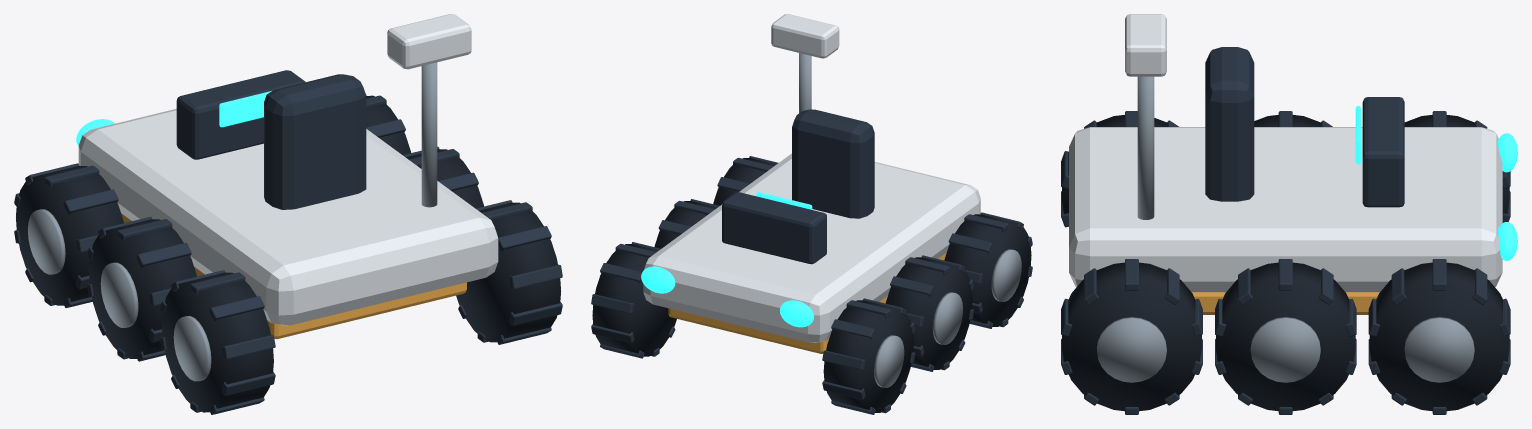
File: moon-rover.glb
3 renders of one model, left to right at view 1: azimuth 30°, elevation 25°; view 2: azimuth 150°, elevation 25°; view 3: azimuth 270°, elevation 25°, orthographic. The views are drawn at different scales.
Visible parts, largest first — view 1: Static_Pearl ceramic white, Static_Graphite panels, Wheel, Wheel.003, Wheel.002, Wheel.001, Static_Brushed titanium, Rover gold belly, Wheel hub.002, Wheel hub, Wheel hub.001, Static_Ion cyan emission (+2 smaller); view 2: Static_Pearl ceramic white, Static_Graphite panels, Wheel.002, Wheel.005, Wheel.001, Wheel, Static_Ion cyan emission, Rover gold belly, Wheel hub, Wheel hub.002, Wheel hub.001, Wheel.004 (+2 smaller); view 3: Static_Pearl ceramic white, Static_Graphite panels, Wheel.004, Wheel.005, Wheel.003, Wheel hub.005, Wheel hub.003, Wheel hub.004, Static_Brushed titanium, Static_Ion cyan emission, Rover gold belly, Wheel.002 (+2 smaller).
Boxes of the visible parts, x1=… form: Static_Pearl ceramic white: x1=78, y1=14, x2=498, y2=325; Static_Graphite panels: x1=14, y1=70, x2=562, y2=414; Wheel: x1=161, y1=272, x2=273, y2=412; Wheel.003: x1=456, y1=202, x2=560, y2=342; Wheel.002: x1=16, y1=166, x2=123, y2=305; Wheel.001: x1=88, y1=219, x2=196, y2=358; Static_Brushed titanium: x1=421, y1=62, x2=437, y2=207; Rover gold belly: x1=121, y1=213, x2=466, y2=339; Wheel hub.002: x1=27, y1=209, x2=65, y2=274; Wheel hub: x1=173, y1=316, x2=211, y2=381; Wheel hub.001: x1=100, y1=262, x2=138, y2=327; Static_Ion cyan emission: x1=76, y1=91, x2=271, y2=146; Static_Pearl ceramic white: x1=643, y1=14, x2=980, y2=342; Static_Graphite panels: x1=591, y1=109, x2=1032, y2=414; Wheel.002: x1=823, y1=300, x2=913, y2=412; Wheel.005: x1=592, y1=244, x2=676, y2=356; Wheel.001: x1=885, y1=257, x2=972, y2=369; Wheel: x1=944, y1=214, x2=1031, y2=326; Static_Ion cyan emission: x1=641, y1=192, x2=813, y2=327; Rover gold belly: x1=668, y1=253, x2=946, y2=353; Wheel hub: x1=991, y1=249, x2=1021, y2=301; Wheel hub.002: x1=874, y1=335, x2=904, y2=387; Wheel hub.001: x1=932, y1=292, x2=962, y2=344; Wheel.004: x1=654, y1=201, x2=717, y2=248; Static_Pearl ceramic white: x1=1069, y1=14, x2=1502, y2=292; Static_Graphite panels: x1=1061, y1=47, x2=1510, y2=414; Wheel.004: x1=1216, y1=262, x2=1355, y2=411; Wheel.005: x1=1369, y1=262, x2=1509, y2=411; Wheel.003: x1=1062, y1=262, x2=1201, y2=411; Wheel hub.005: x1=1404, y1=317, x2=1474, y2=382; Wheel hub.003: x1=1097, y1=317, x2=1166, y2=382; Wheel hub.004: x1=1250, y1=317, x2=1320, y2=382; Static_Brushed titanium: x1=1137, y1=76, x2=1154, y2=219; Static_Ion cyan emission: x1=1355, y1=105, x2=1517, y2=260; Rover gold belly: x1=1192, y1=292, x2=1379, y2=314; Wheel.002: x1=1404, y1=115, x2=1509, y2=214.
Size of the model in its own units: 2.98 by 2.66 by 3.27.
